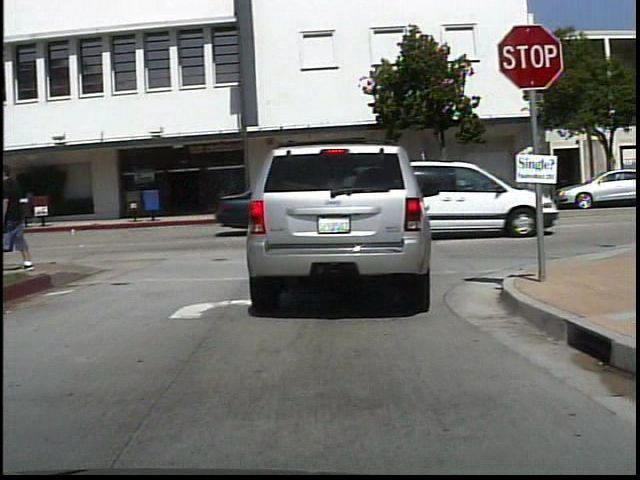person: (0, 161, 41, 275), (23, 179, 45, 226)
